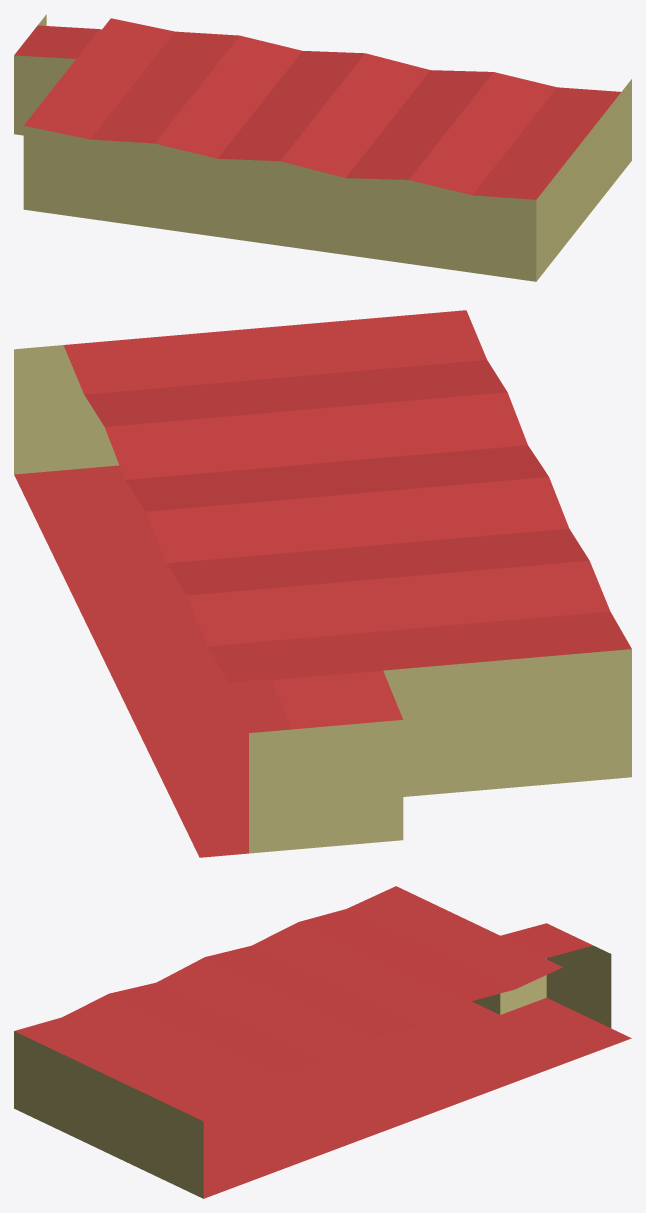
3 renders of one model, top to bottom at view 1: azimuth 30°, elevation 25°; view 2: azimuth 150°, elevation 25°; view 3: azimuth 270°, elevation 25°, orthographic. The views are drawn at different scales.
Bounding box in the file's own units: 65.33 × 73.06 × 10.43.
